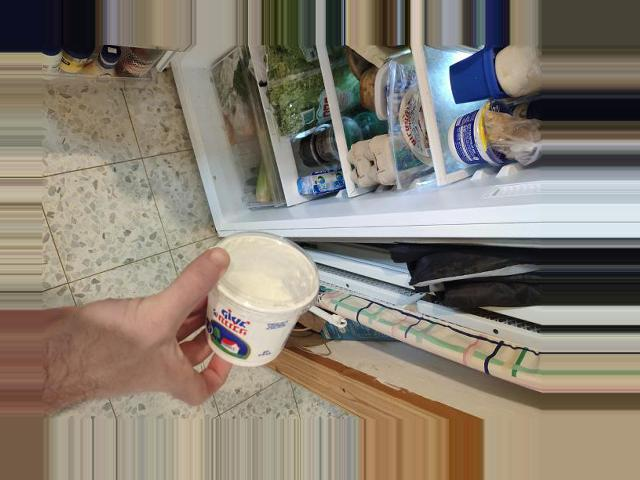cotage: (207, 249, 326, 352)
